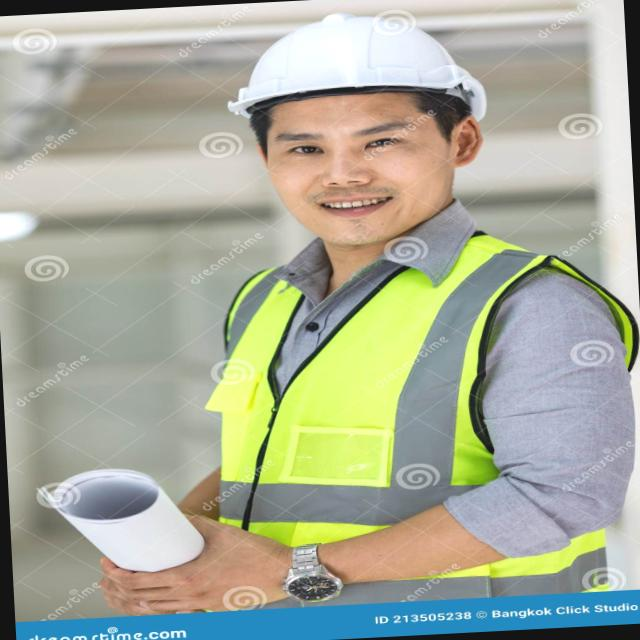helmet: (186, 4, 514, 142)
no-goggles: (245, 108, 486, 172)
vest: (186, 202, 640, 611)
